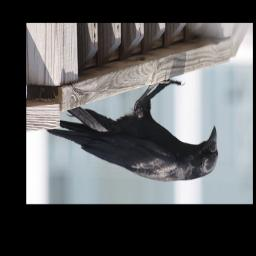Crow: (45, 79, 219, 183)
